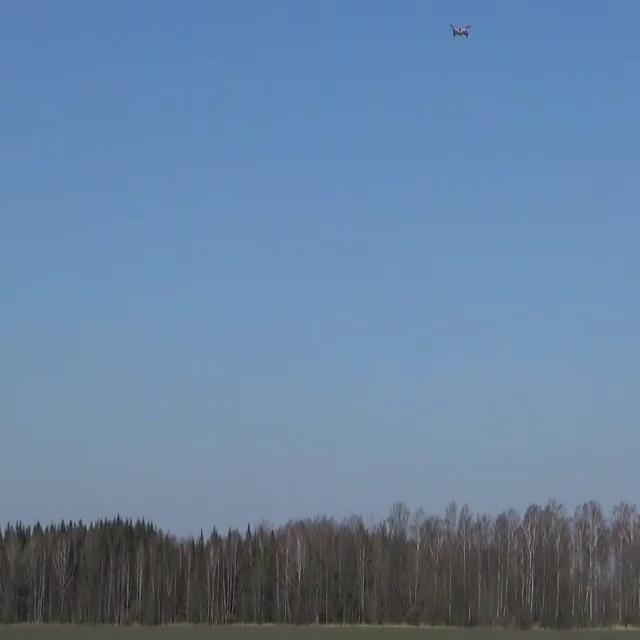drone: (449, 22, 471, 38)
